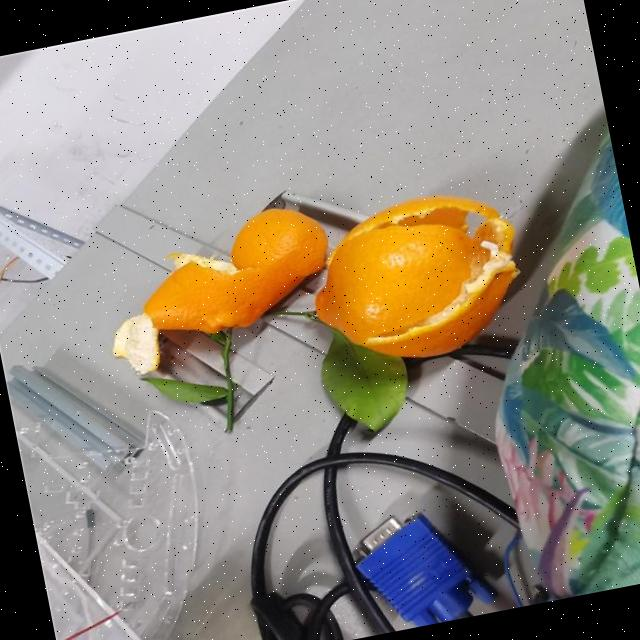orange-peel: (298, 182, 534, 378), (128, 197, 342, 347)
